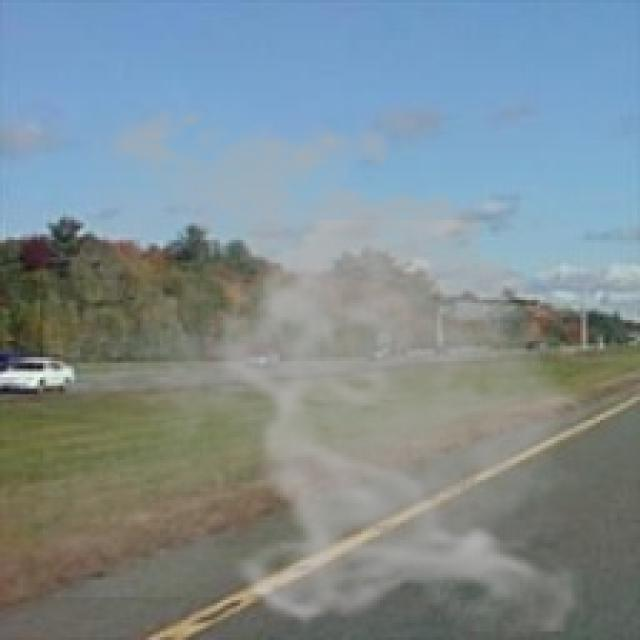Smoke: (42, 91, 608, 632)
